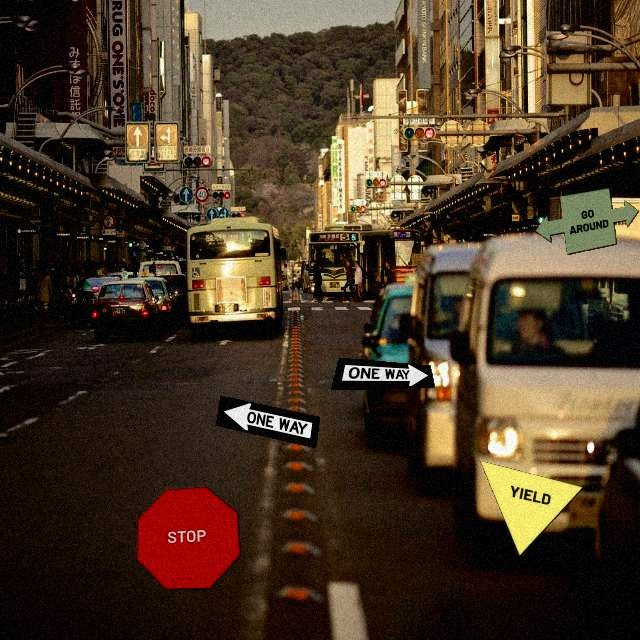GO_AROUND: (534, 187, 639, 255)
ONE_WAY_ left: (215, 395, 320, 448)
ONE_WAY_ right: (330, 357, 435, 390)
STOP: (136, 486, 241, 590)
YIELD: (479, 460, 584, 557)
